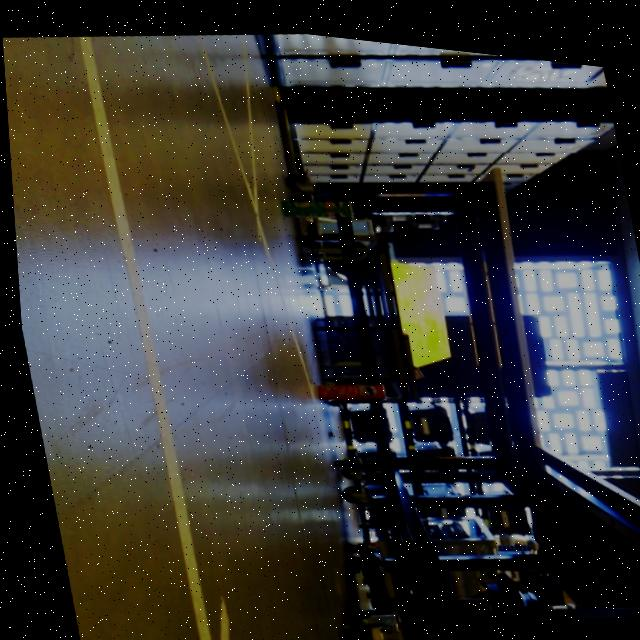greenpringles: (273, 175, 364, 228)
redpringles: (295, 357, 396, 414)
